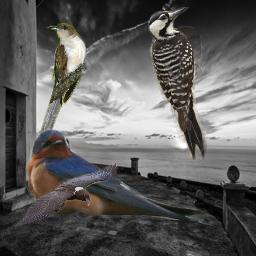Crow: (12, 162, 118, 228)
Cuckoo: (40, 23, 87, 140)
Swallow: (25, 129, 221, 230)
Woodpecker: (148, 7, 207, 161)
